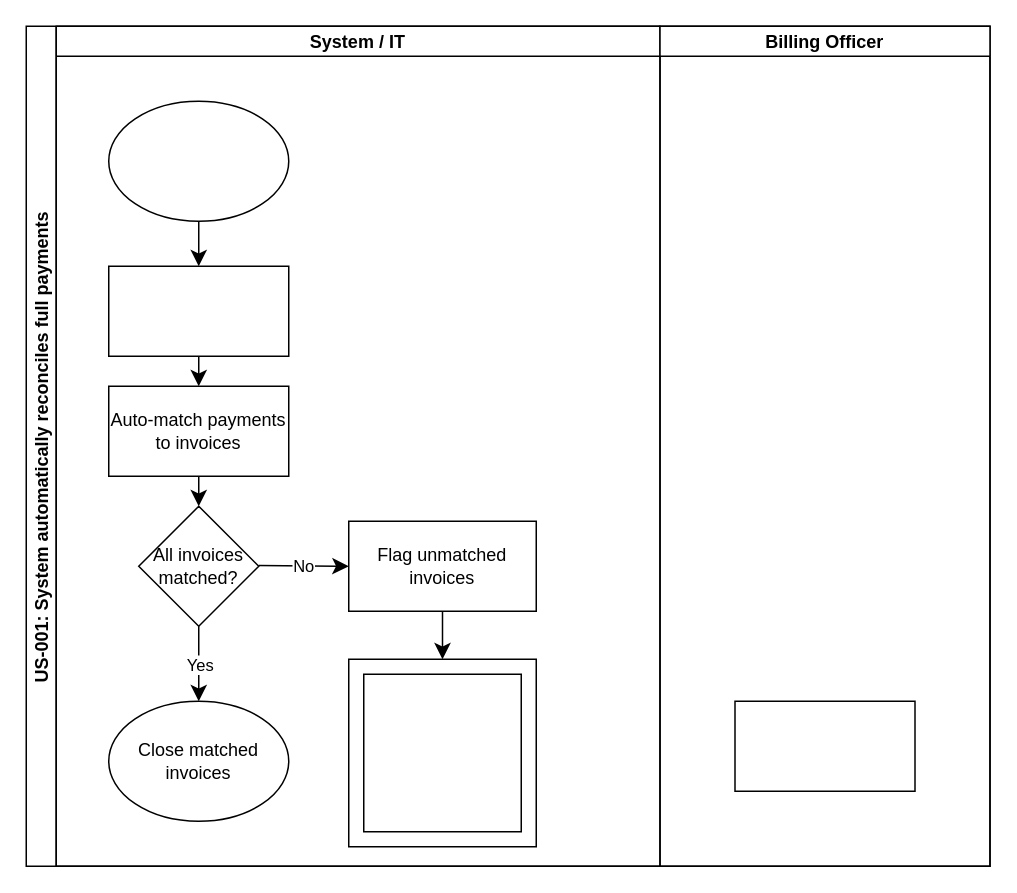
Image size: 1017x893. Some labels were removed from this diagram. The shapes that lost their labels are listed below. From the top down, each one's centre as x and y in pixels, then its label:
the point at 198,160: Receive daily billing & payments files
the point at 198,310: System ingests billing & payment data
the point at 441,752: Continue to US-002: System flags partial payments
the point at 824,745: Review flagged invoices
